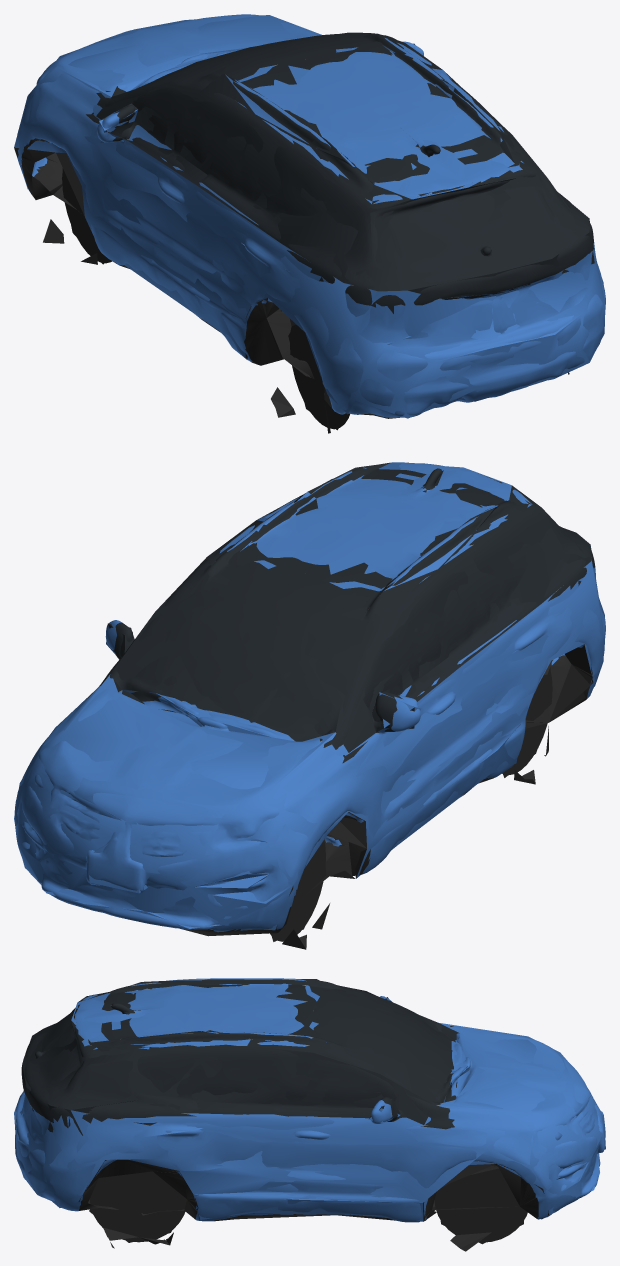
The model's file is lincoln-mkc.glb.
3 views of the same model, one above another, from view 1: azimuth 30°, elevation 25°; view 2: azimuth 150°, elevation 25°; view 3: azimuth 270°, elevation 25° (orthographic). The views are drawn at different scales.
Parts seen in each view (by area): view 1: body, far; view 2: body, far; view 3: body, far.
Boxes of the visible parts, x1,y1,x2,y2 form: body: [16, 14, 605, 433]; far: [14, 15, 605, 433]; body: [14, 462, 605, 949]; far: [14, 463, 604, 941]; body: [15, 978, 605, 1248]; far: [14, 979, 605, 1251].
Bounding box in the file's own units: 2.15 × 1.73 × 4.57.
